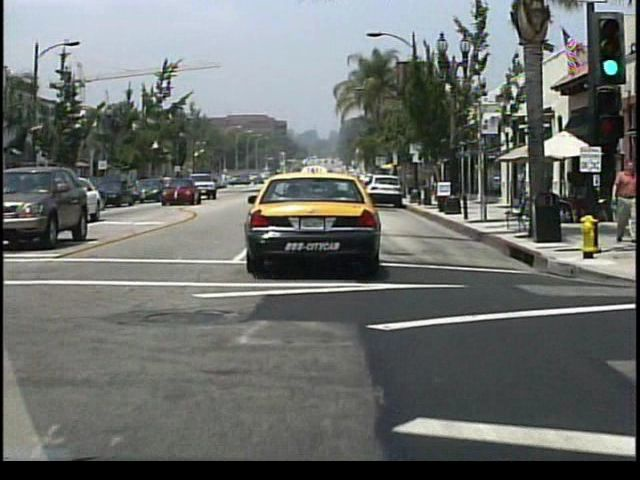person: (607, 160, 639, 241)
